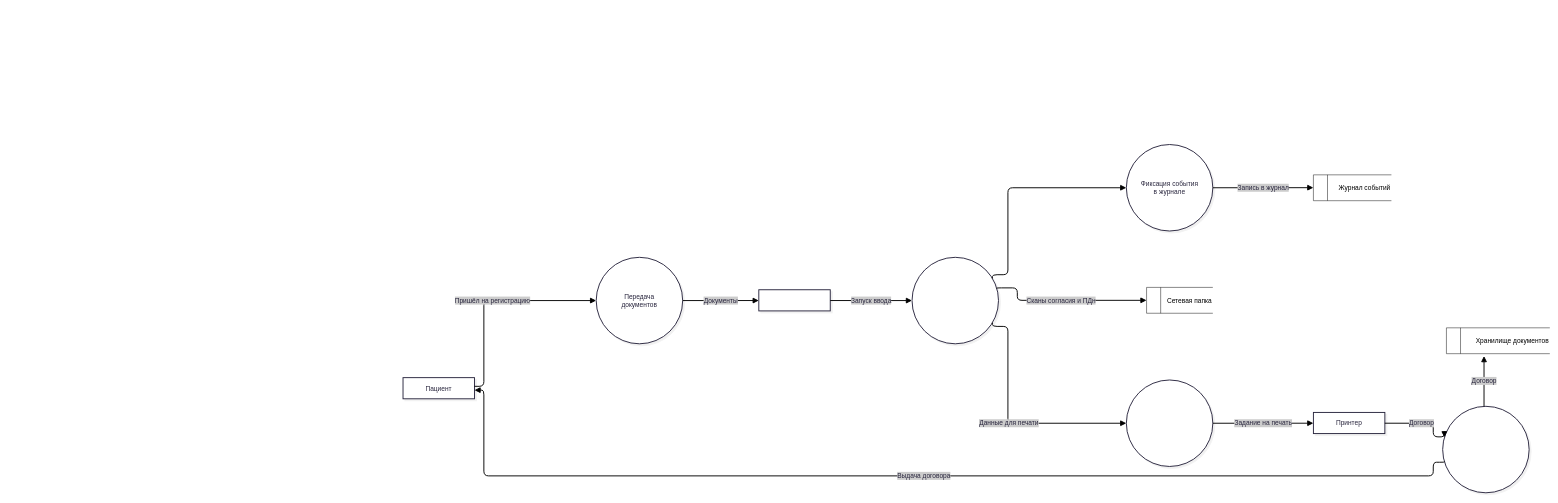
The diagram is 1558 pixels wide and 503 high, and some of its shapes have lost their labels. Here are the shapes that lost their labels. From the top down, the centre of each, then its label:
At pixel 795 301: "Администратор".
At pixel 956 301: "Ввод, сканирование, шифрование".
At pixel 1170 424: "Печать договора".
At pixel 1486 450: "Подпись договора".
